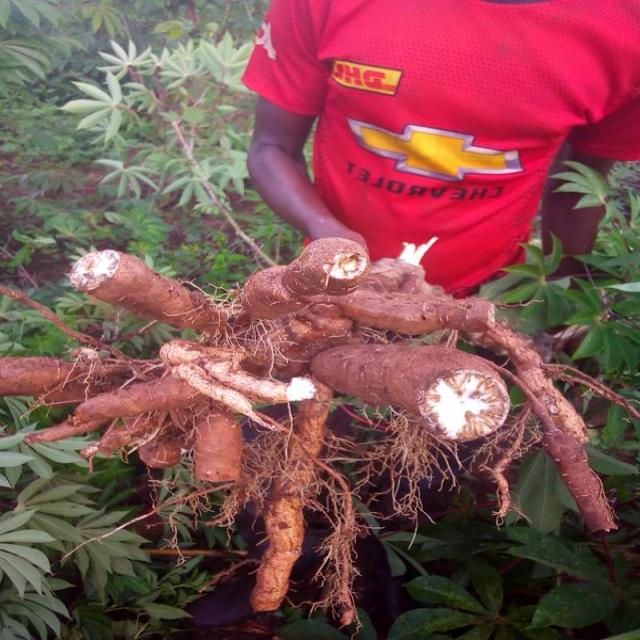cassava leaf: (3, 235, 630, 634), (70, 246, 227, 336)
